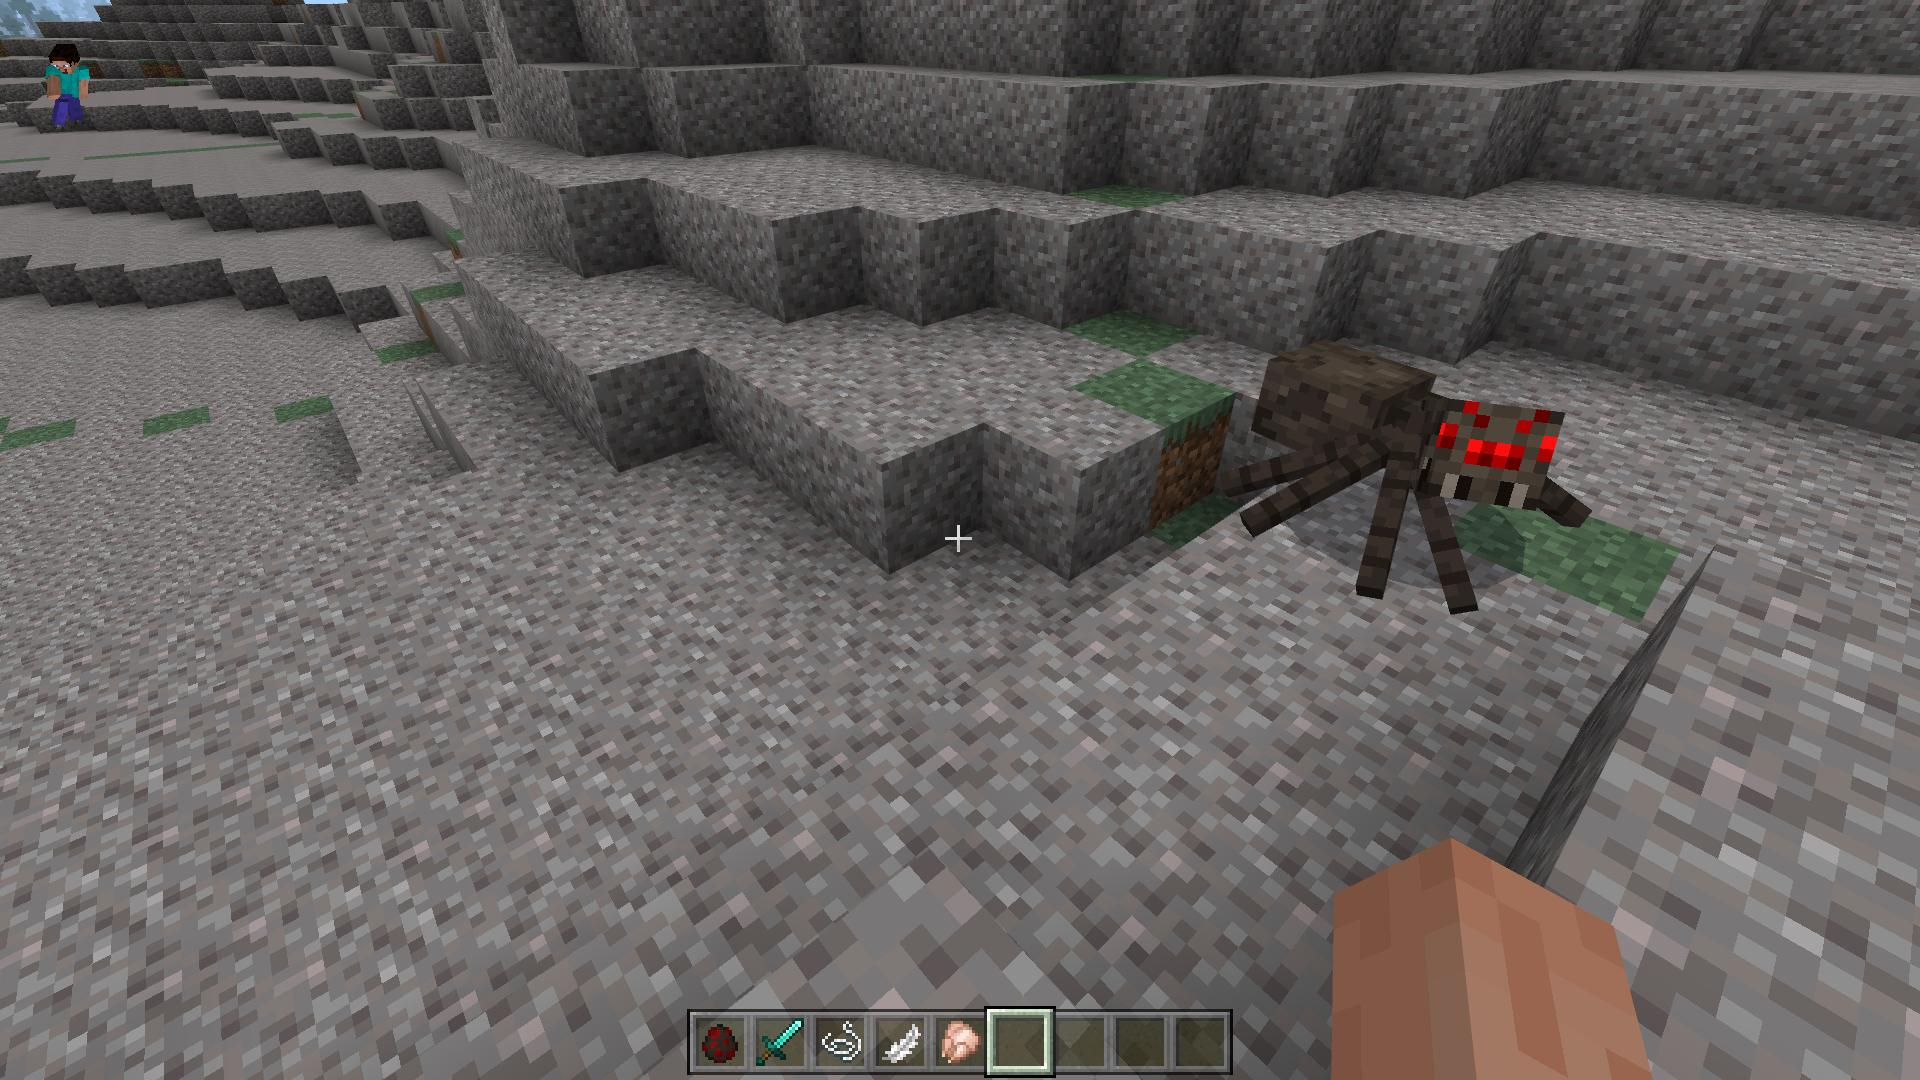spider: (1212, 339, 1592, 617)
